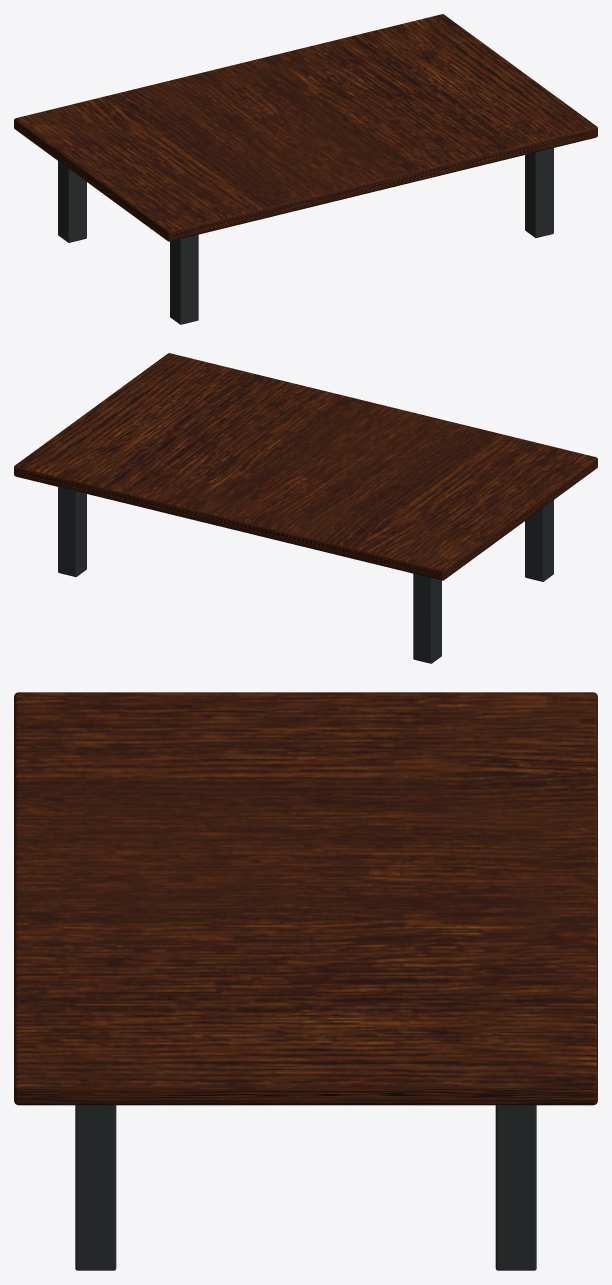
The model's file is table.gltf.
The picture shows the model from 3 angles, top to bottom: view 1: azimuth 30°, elevation 25°; view 2: azimuth 150°, elevation 25°; view 3: azimuth 270°, elevation 25°; orthographic projection. The views are drawn at different scales.
Parts seen in each view (by area): view 1: Solid oak top; view 2: Solid oak top; view 3: Solid oak top.
Boxes of the visible parts, x1,y1,x2,y2 form: Solid oak top: (14,14,597,324); Solid oak top: (14,353,597,663); Solid oak top: (14,692,597,1270).
Bounding box in the file's own units: 1.6 × 0.4 × 1.
Materials: 2 (1 with a texture image).
